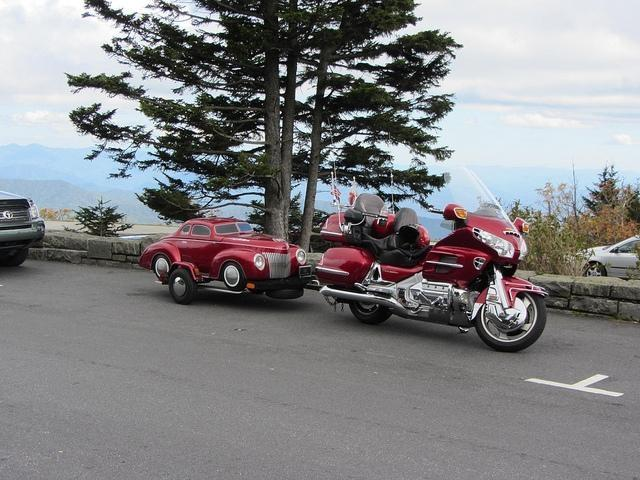car: (136, 221, 322, 302), (1, 192, 48, 265), (573, 232, 640, 280)
motorcycle: (314, 166, 550, 353)
